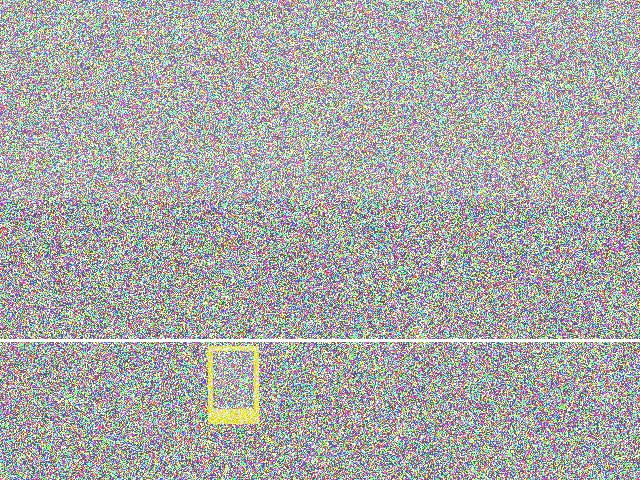bus: (181, 78, 258, 219), (368, 212, 471, 312)
motorcycle: (402, 363, 551, 426)
